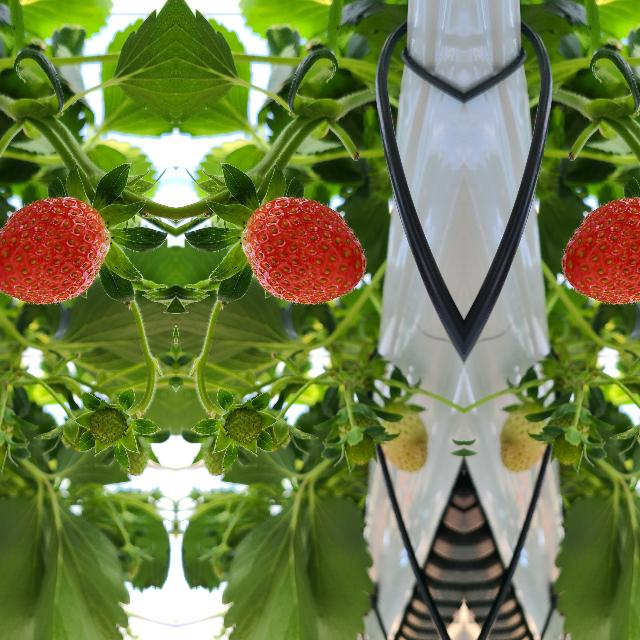Health_100: (240, 195, 368, 307), (0, 195, 110, 307), (557, 195, 640, 307)
